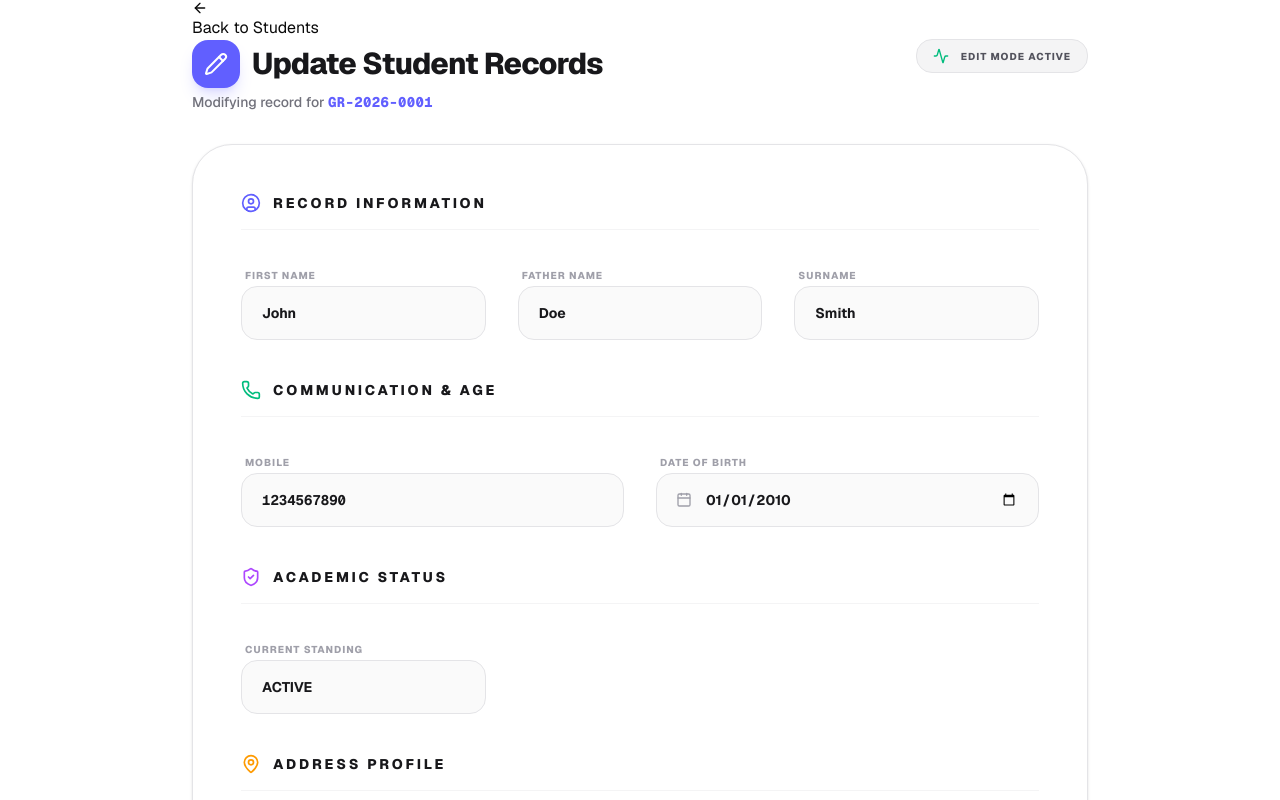
Test case: EditStudentPage › successfully updates the student record
Replace the text in the field showing "John" below "First Name" with "Johnny" at coordinates (363, 313), box [241,286,486,340]
(page scrolled)
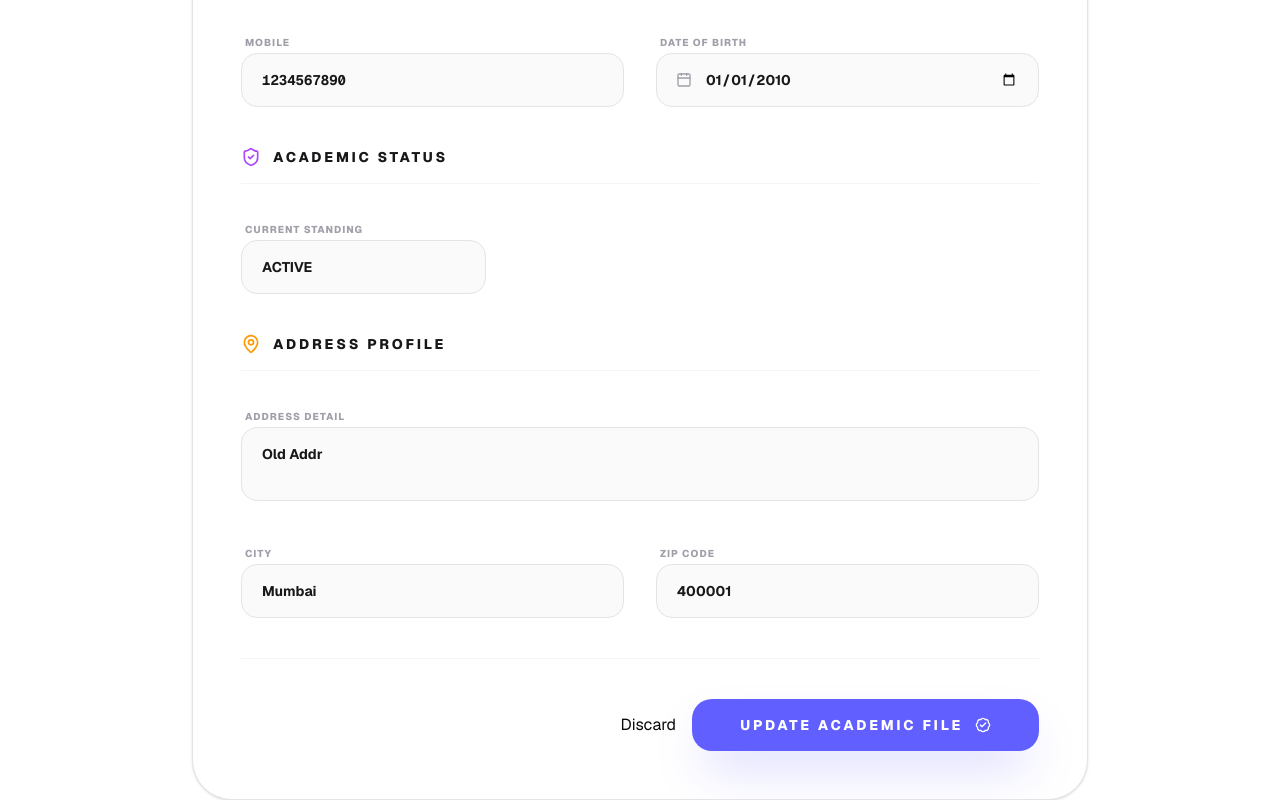
Click the button "Update Academic File".
click(866, 725)  # box [692,699,1039,751]
(page scrolled)
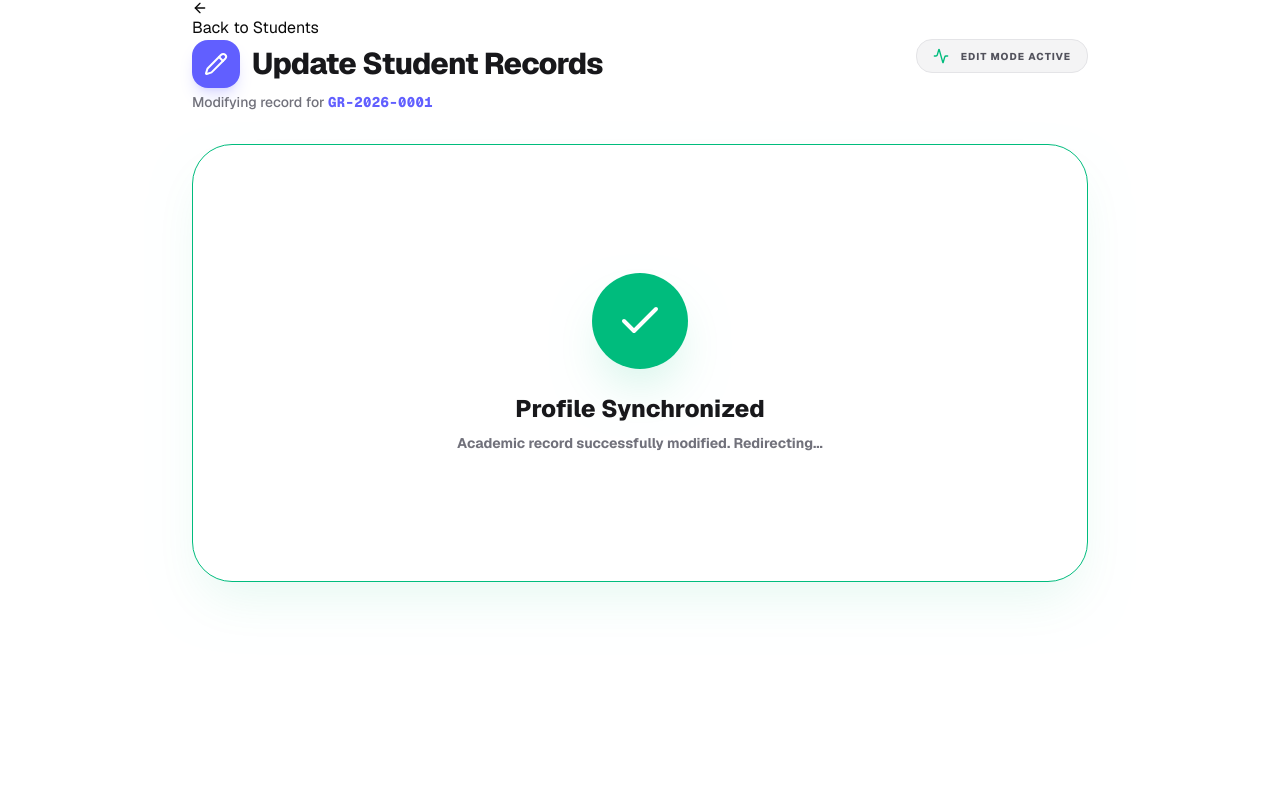
Expected: the heading "Profile Synchronized" is shown, [515,393,765,424]
